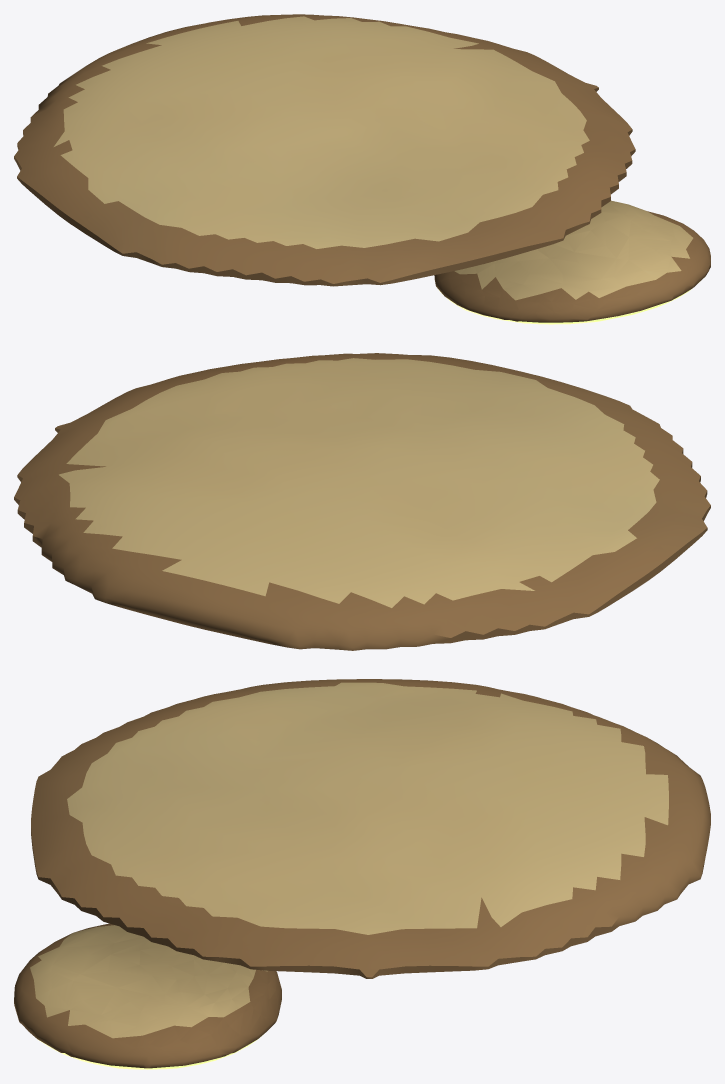
Rendered from mire_bracket_fungus.glb.
3 renders of one model, top to bottom at view 1: azimuth 30°, elevation 25°; view 2: azimuth 150°, elevation 25°; view 3: azimuth 270°, elevation 25°, orthographic. The views are drawn at different scales.
Visible parts, largest first — view 1: mire_bracket_fungus; view 2: mire_bracket_fungus; view 3: mire_bracket_fungus.
Boxes of the visible parts, x1,y1,x2,y2 form: mire_bracket_fungus: [14, 14, 710, 324]; mire_bracket_fungus: [14, 353, 710, 650]; mire_bracket_fungus: [14, 679, 710, 1069].
Size of the model in its own units: 5.03 by 1.2 by 5.03.
